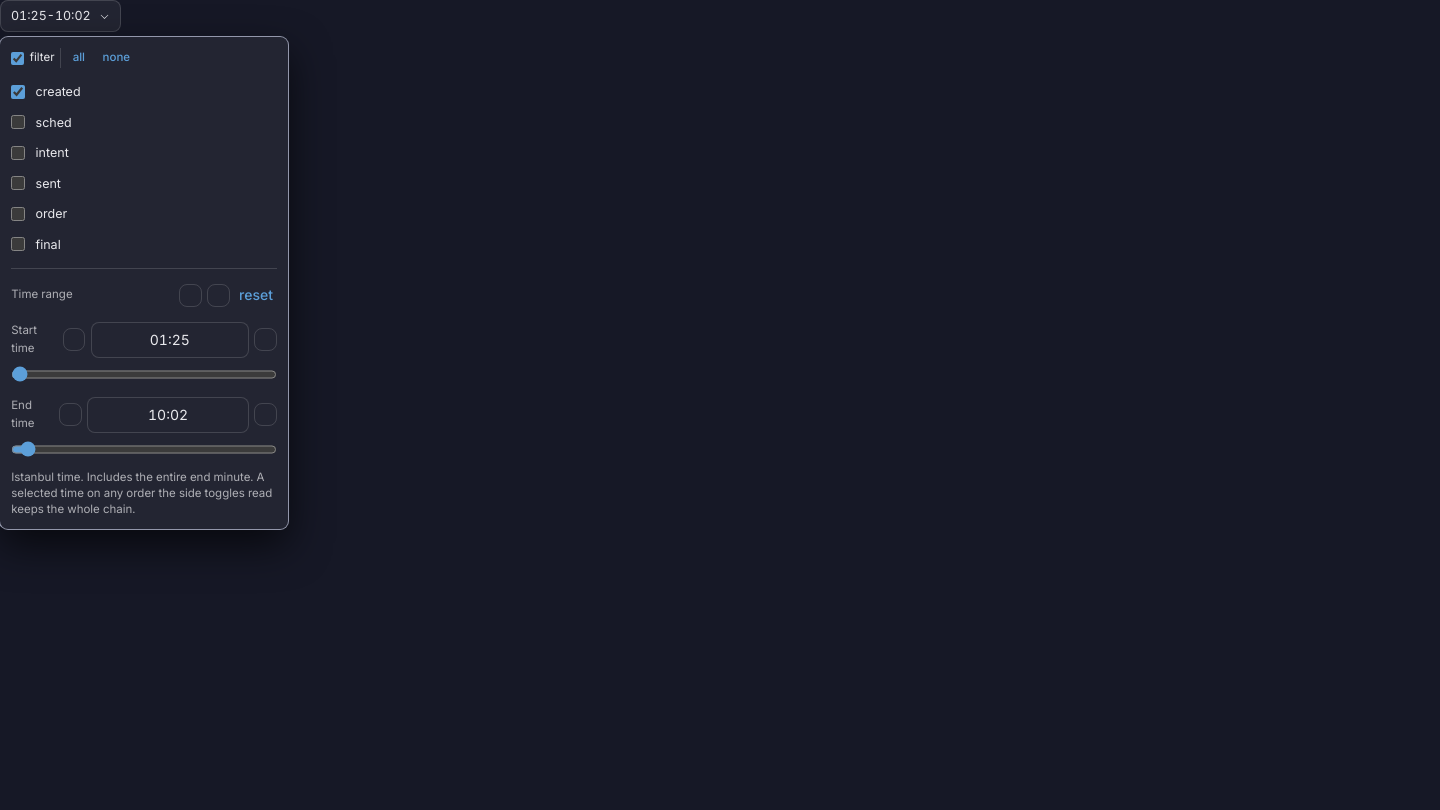
it: BookTimeFilter range buttons › shows the compact active range label and resets only the two times
The image size is (1440, 810).
Expected: the button "01:25-10:02" is shown, [0,0,121,32]
What coordinates should you click on to do the following:
click the button with aria-label "Reset time range"
I would click on:
 (256, 295)
Its box is [235,280,277,310].
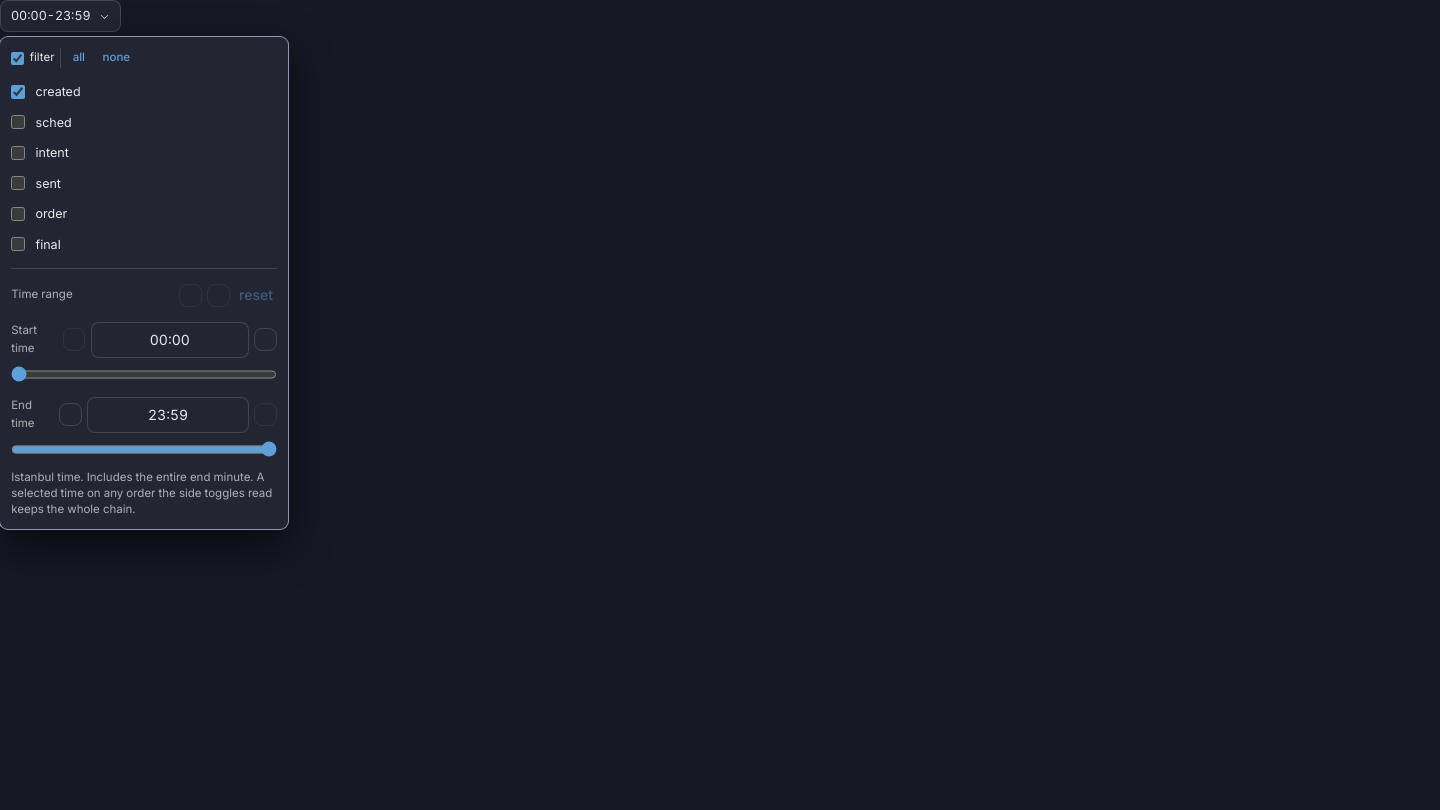
Expected: the checkbox labelled "created" is checked, [11,85,25,99]
Expected: the button with aria-label "Reset time range" is disabled, [235,280,277,310]
